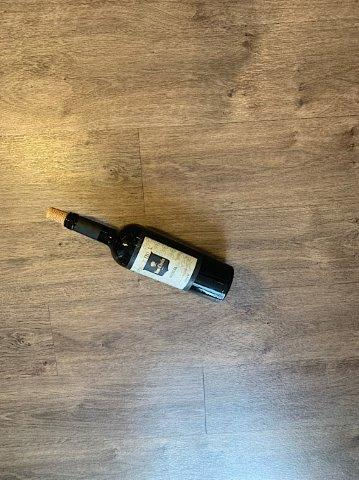botolkaca: (46, 208, 234, 301)
